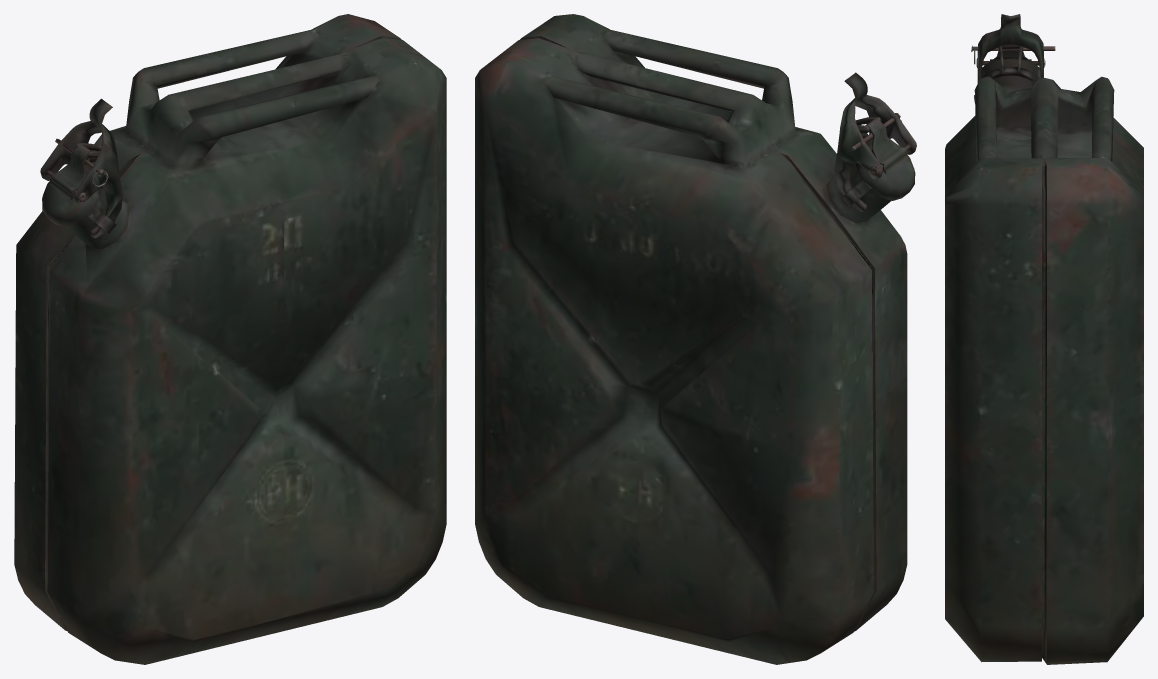
Rendered from scene-jerrycan.glb.
The picture shows the model from 3 angles, left to right: view 1: azimuth 30°, elevation 25°; view 2: azimuth 150°, elevation 25°; view 3: azimuth 270°, elevation 25°; orthographic projection. The views are drawn at different scales.
Visible parts, largest first — view 1: metal_jerrycan_green_pin; view 2: metal_jerrycan_green_pin; view 3: metal_jerrycan_green_pin.
Part boxes in pixels (<box>): metal_jerrycan_green_pin: <box>14,14,446,664</box>; metal_jerrycan_green_pin: <box>475,14,916,664</box>; metal_jerrycan_green_pin: <box>945,14,1143,664</box>.
Bounding box in the file's own units: 0.3605 × 0.4998 × 0.1708.
Materials: 1 (1 with a texture image).
